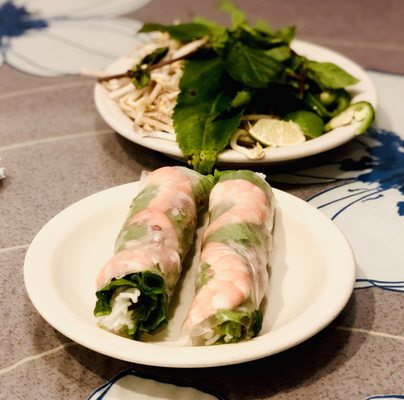curry: (0, 2, 400, 394)
